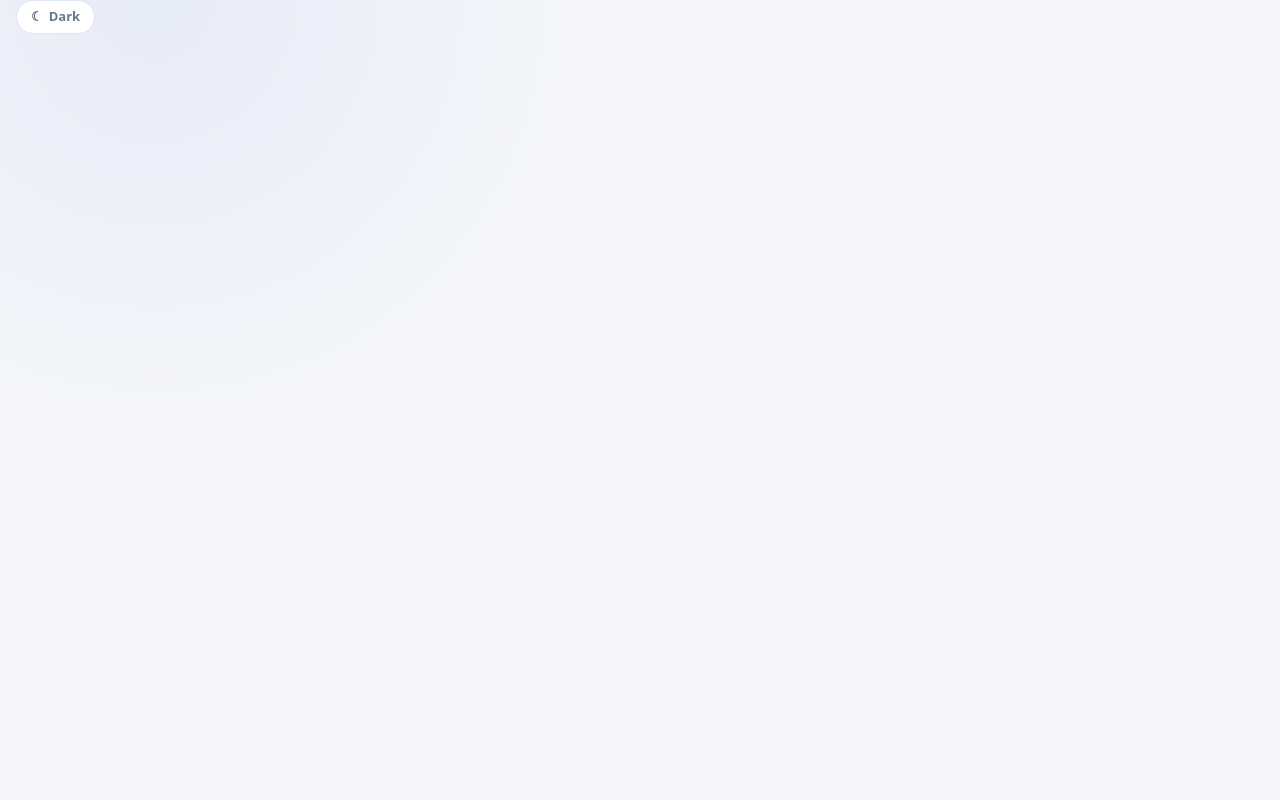
ThemeToggle › toggles, applies and persists the theme
Later steps or results of the test are not shown.
Click the button at point(56, 17), box top-left (16, 0), bottom-right (95, 34)
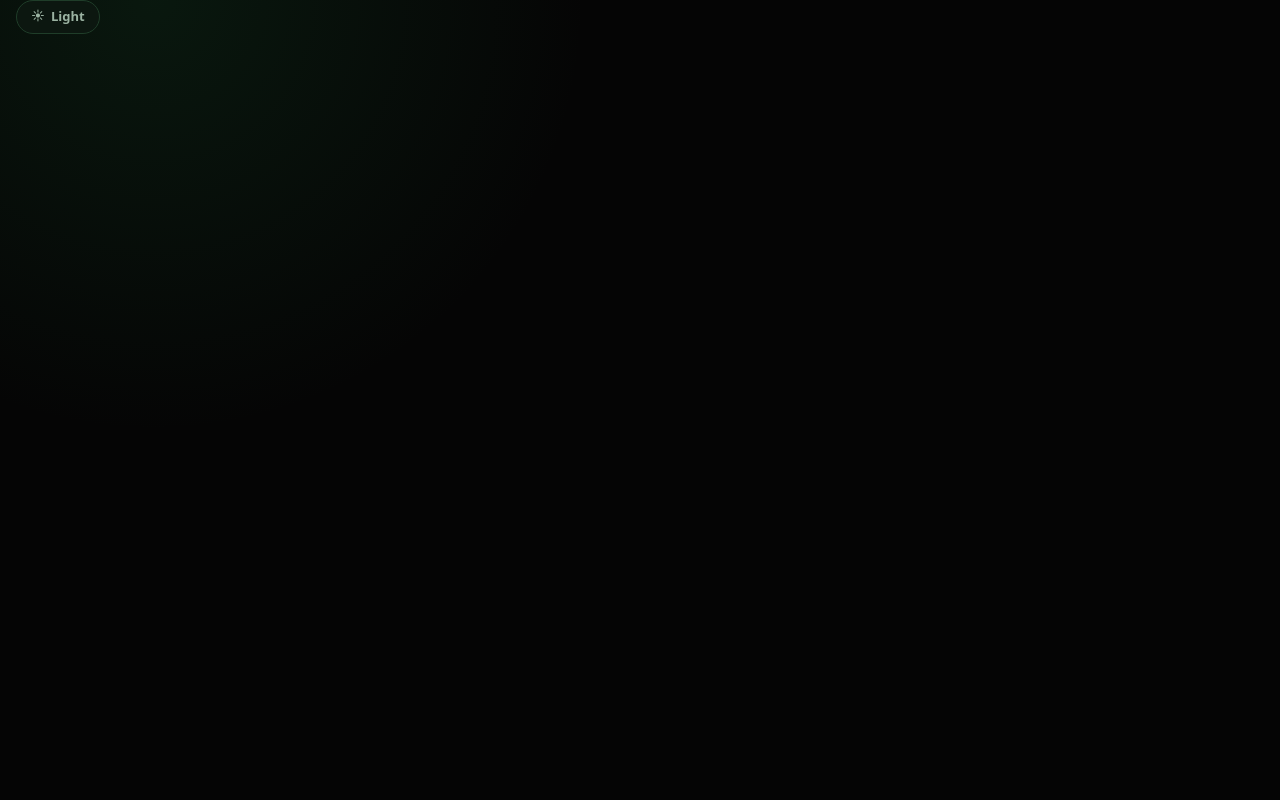
Check: the button reads "☀ Light", box top-left (16, 0), bottom-right (100, 34)
